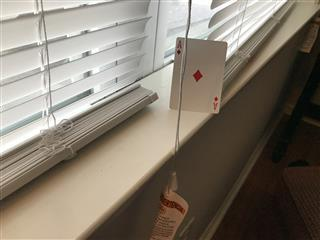AceOfDiamonds: (169, 36, 227, 113)
